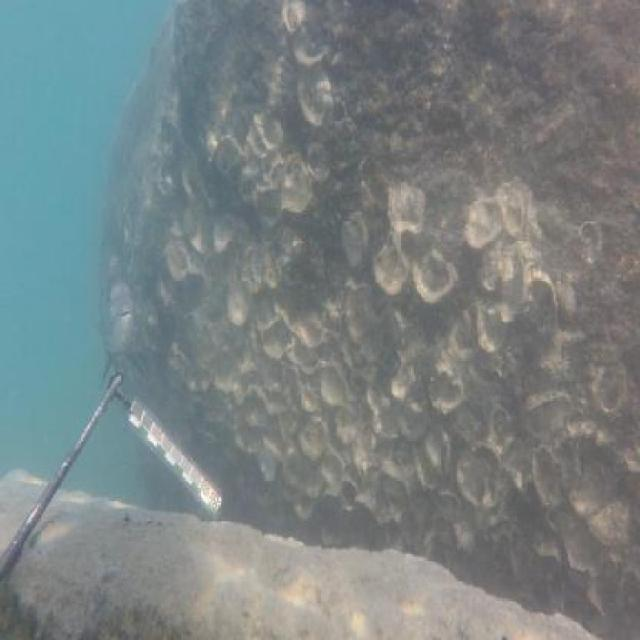acanthopagrus_palmaris: (98, 226, 145, 386)
